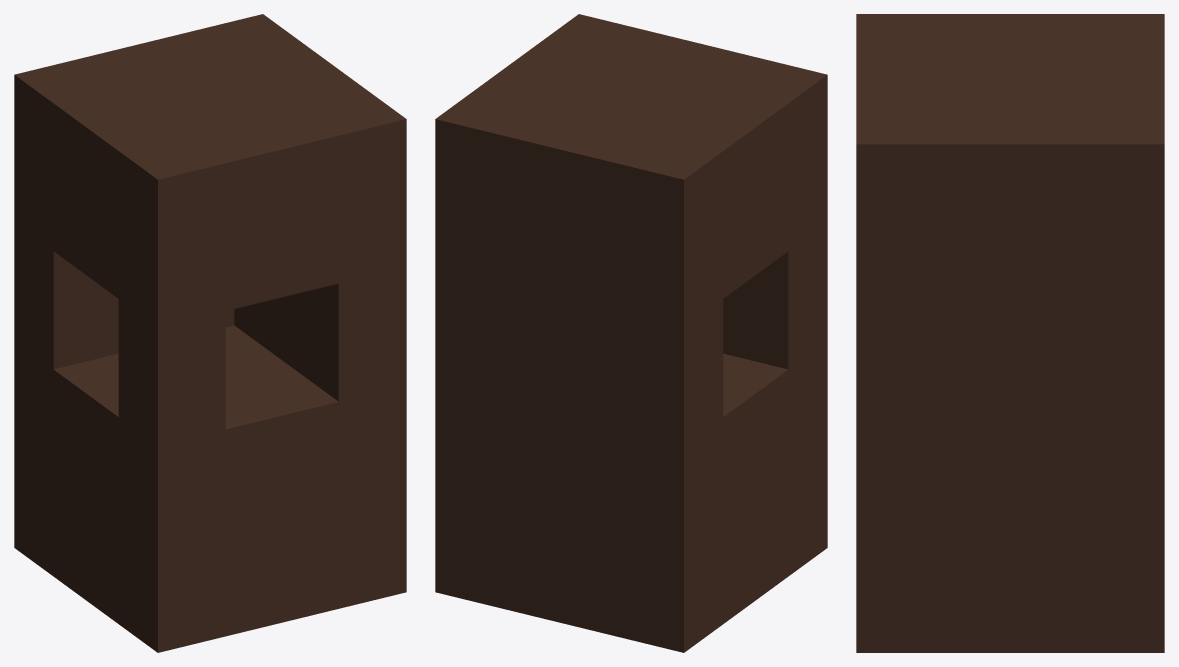
File: 823_corner_mortised_post_connector.fbx
3 renders of one model, left to right at view 1: azimuth 30°, elevation 25°; view 2: azimuth 150°, elevation 25°; view 3: azimuth 270°, elevation 25°, orthographic. The views are drawn at different scales.
Parts seen in each view (by area): view 1: 823_corner_mortised_post_connector; view 2: 823_corner_mortised_post_connector; view 3: 823_corner_mortised_post_connector.
Part boxes in pixels (x1=…): 823_corner_mortised_post_connector: x1=14, y1=14, x2=406, y2=652; 823_corner_mortised_post_connector: x1=435, y1=14, x2=827, y2=652; 823_corner_mortised_post_connector: x1=856, y1=14, x2=1164, y2=652.
Bounding box in the file's own units: 0.44 × 0.8 × 0.44.
Materials: 1 (1 with a texture image).
